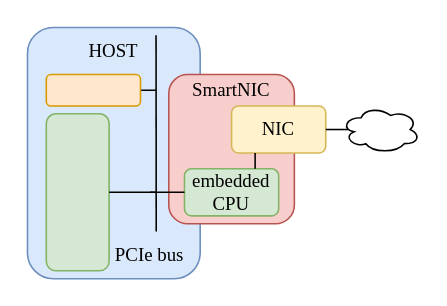
The diagram is 447 pixels wide and 306 high, and some of its shapes have lost their labels. Each missing label, with the box of its shape:
Accelerator: (45, 73, 141, 106)
CPU: (45, 112, 109, 271)
